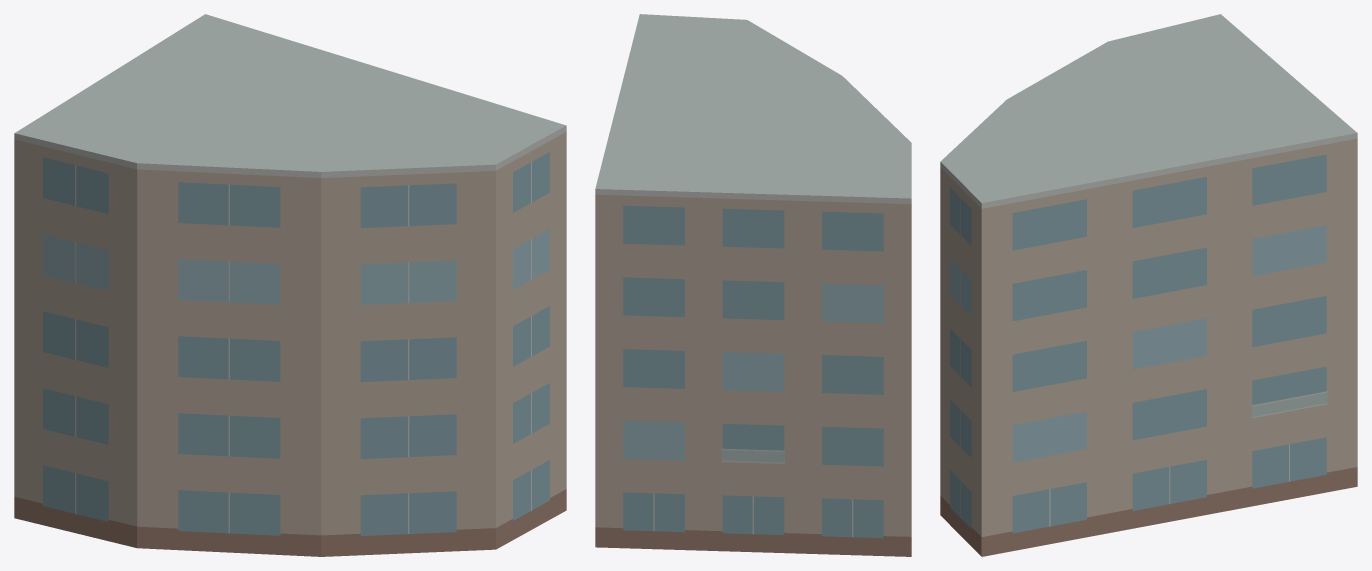
File: residential-741273f1-3261-4c58-88e8-1a221eb32b9b.glb
The picture shows the model from 3 angles, left to right: view 1: azimuth 30°, elevation 25°; view 2: azimuth 150°, elevation 25°; view 3: azimuth 270°, elevation 25°; orthographic projection. The views are drawn at different scales.
Visible parts, largest first — view 1: residential-741273f1-3261-4c58-88e8-1a221eb32b9b.tmp; view 2: residential-741273f1-3261-4c58-88e8-1a221eb32b9b.tmp; view 3: residential-741273f1-3261-4c58-88e8-1a221eb32b9b.tmp.
Part boxes in pixels (box(x1,y1,x2,y2)): residential-741273f1-3261-4c58-88e8-1a221eb32b9b.tmp: box(14, 14, 566, 556); residential-741273f1-3261-4c58-88e8-1a221eb32b9b.tmp: box(595, 14, 911, 556); residential-741273f1-3261-4c58-88e8-1a221eb32b9b.tmp: box(940, 14, 1357, 556).
Size of the model in its own units: 17.51 by 15.25 by 16.31.
